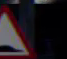Speed Breaker ahead: (0, 3, 33, 57)
